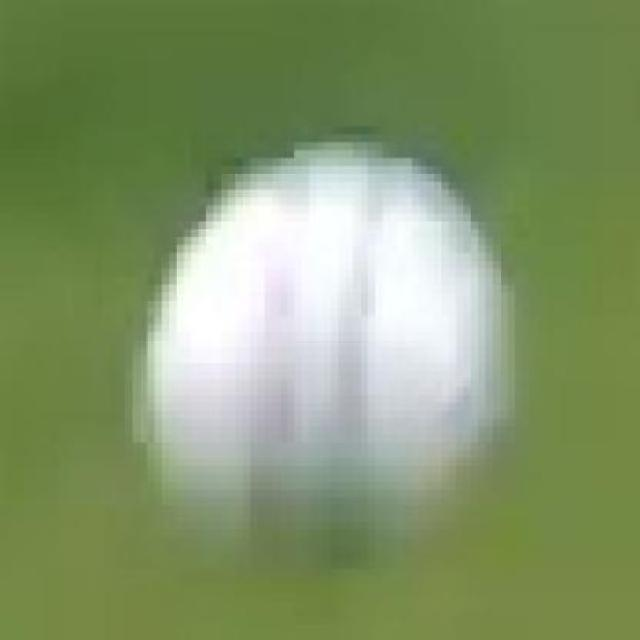Cricket ball: (131, 139, 525, 578)
